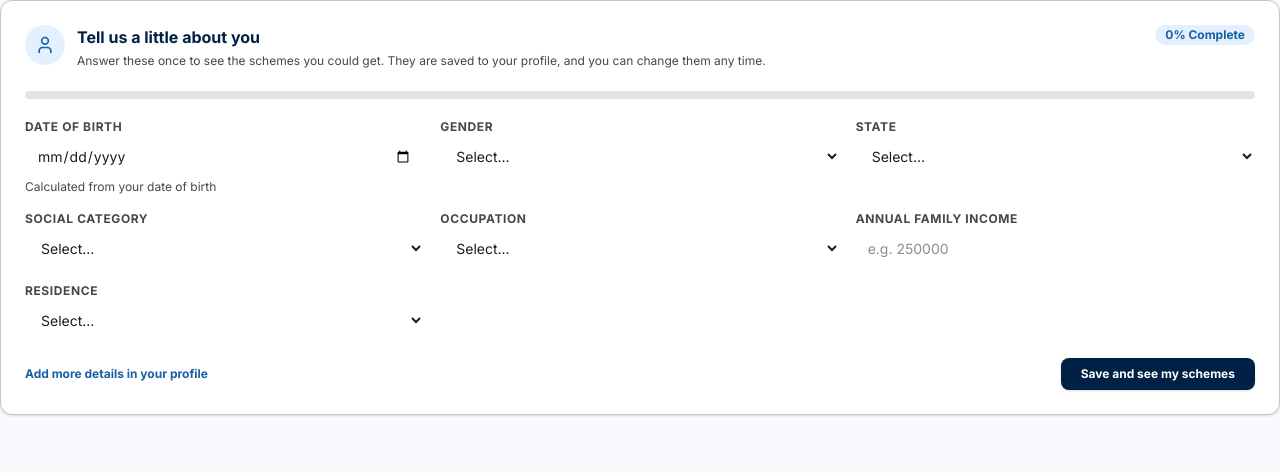
Scenario: QuickProfileForm: answer the missing profile questions in place › checks the date of birth and income like the profile form does, and saves nothing until they are right
The image size is (1280, 473).
Type "2999-01-01" into the date field labelled "Date of Birth" at (225, 156), box [25, 138, 424, 174]
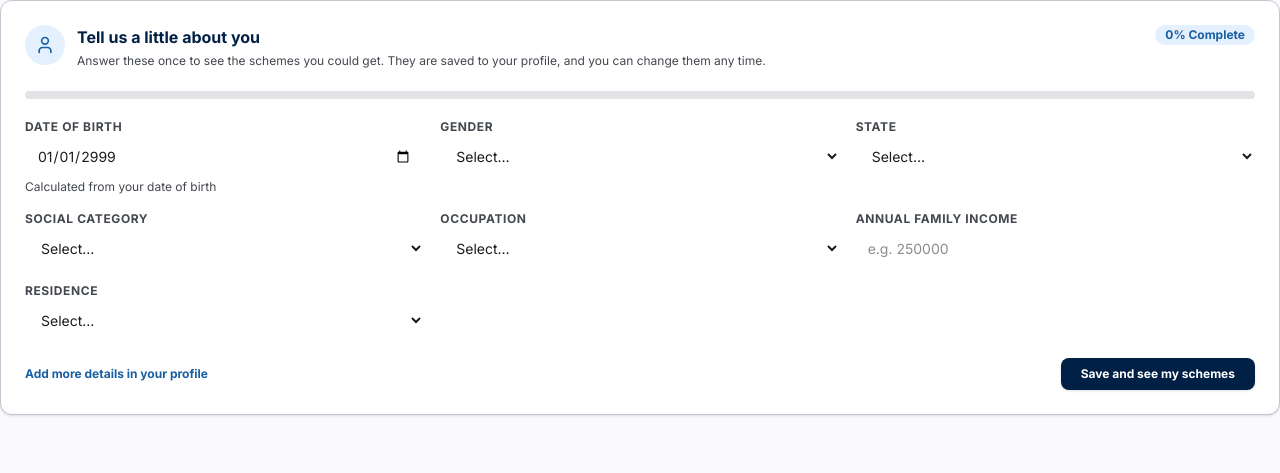
Type "12.5" into the number field labelled "Annual family income" at (1055, 248), box [856, 230, 1255, 266]
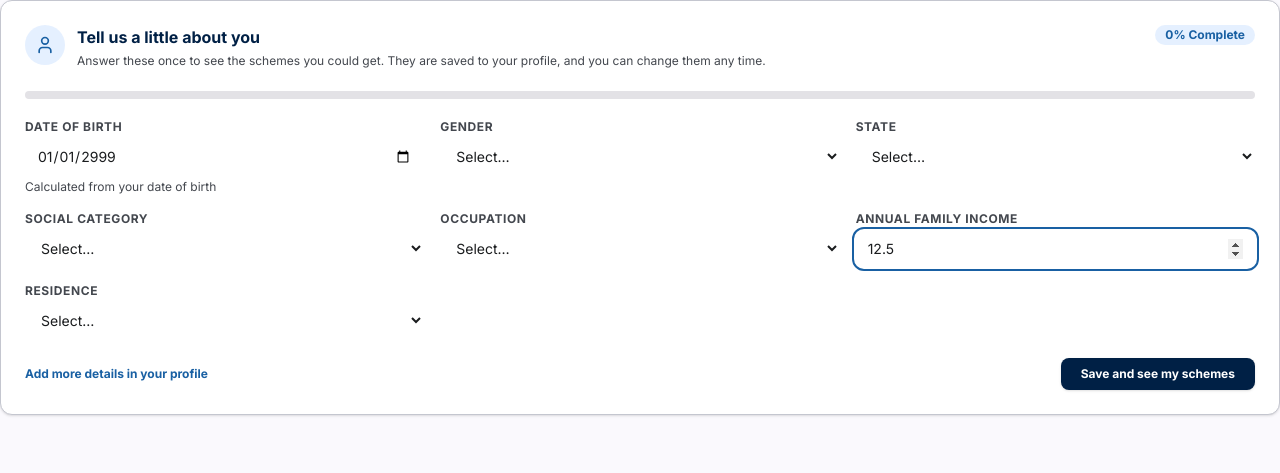
Click the button "Save and see my schemes" at (1158, 374), box [1061, 358, 1255, 390]
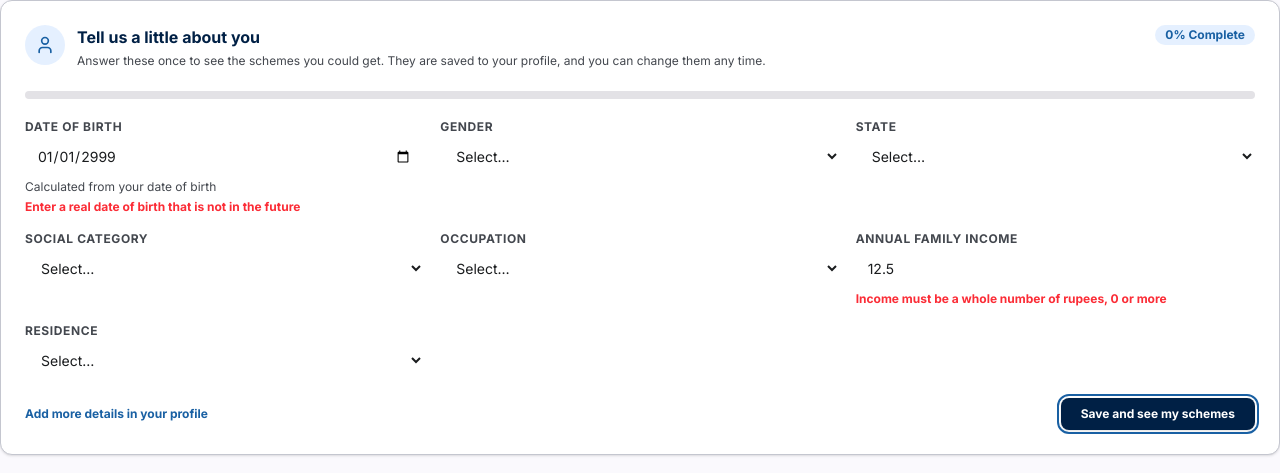
Expected: the text "Enter a real date of birth that is not in the future" is shown, [25, 198, 300, 214]
Expected: the text "Income must be a whole number of rupees, 0 or more" is shown, [856, 290, 1167, 306]
